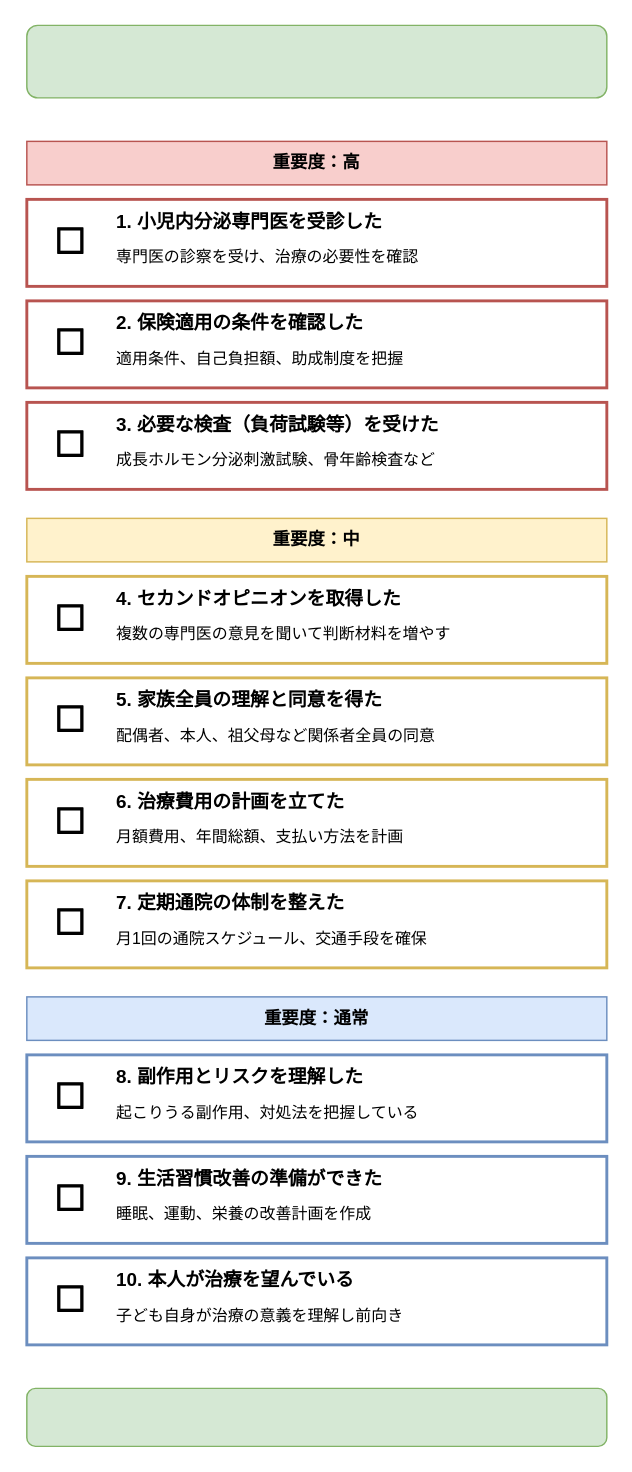
Image size: 632x1472. Some labels were removed from this diagram. Here are the shapes that lost their labels. From the top down, the centre of each, then its label:
At [316,61]: "成長ホルモン治療開始前の10のチェックリスト".
At [316,1416]: "すべてチェックが付いたら、治療開始の準備完了です！".
